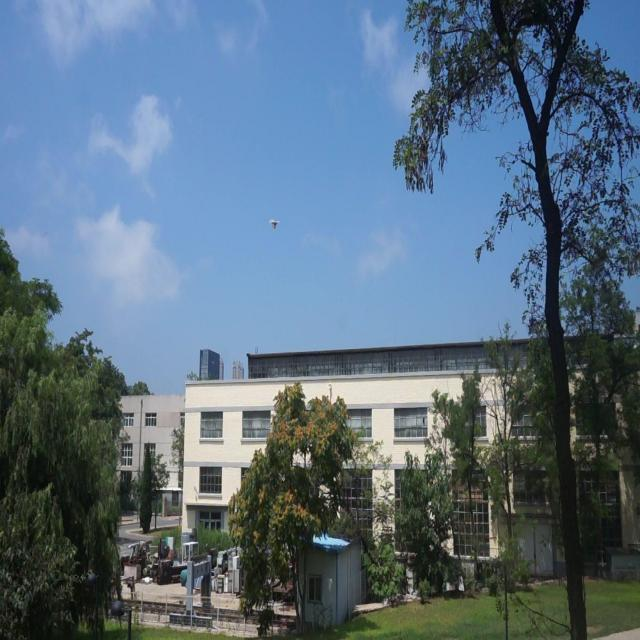UAV: (268, 218, 280, 231)
